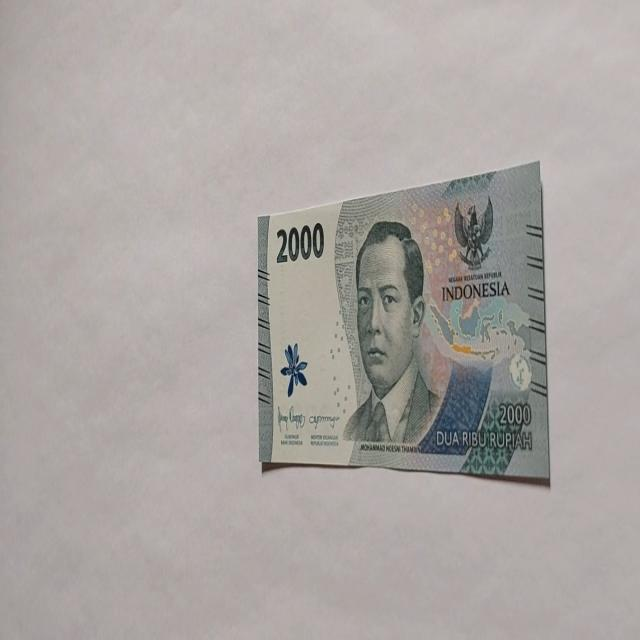dua ribu rupiah: (256, 160, 550, 484), (342, 219, 442, 447)
